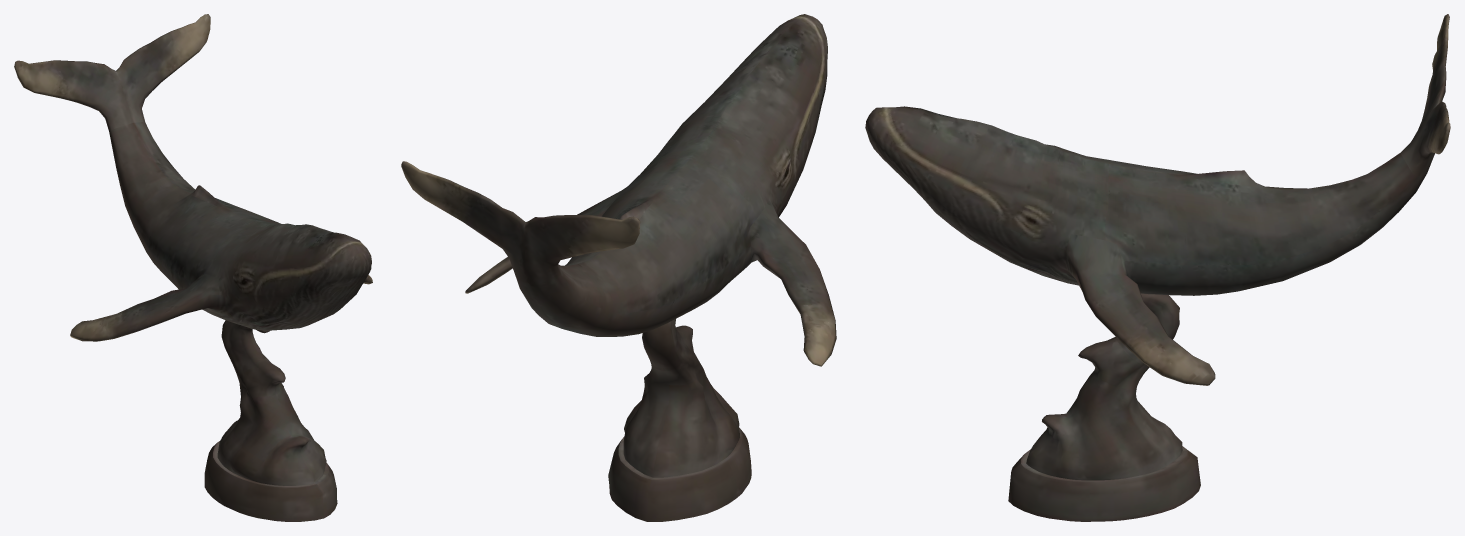
Rendered from bronze_whale_statue.glb.
3 renders of one model, left to right at view 1: azimuth 30°, elevation 25°; view 2: azimuth 150°, elevation 25°; view 3: azimuth 270°, elevation 25°, orthographic. The views are drawn at different scales.
Parts seen in each view (by area): view 1: bronze_whale_statue; view 2: bronze_whale_statue; view 3: bronze_whale_statue.
Boxes of the visible parts, left/top/right/bottom form: bronze_whale_statue: left=14, top=14, right=372, bottom=521; bronze_whale_statue: left=401, top=14, right=836, bottom=521; bronze_whale_statue: left=865, top=14, right=1450, bottom=521.
Size of the model in its own units: 0.9319 by 1.07 by 1.37.
1 material, 1 textured.
